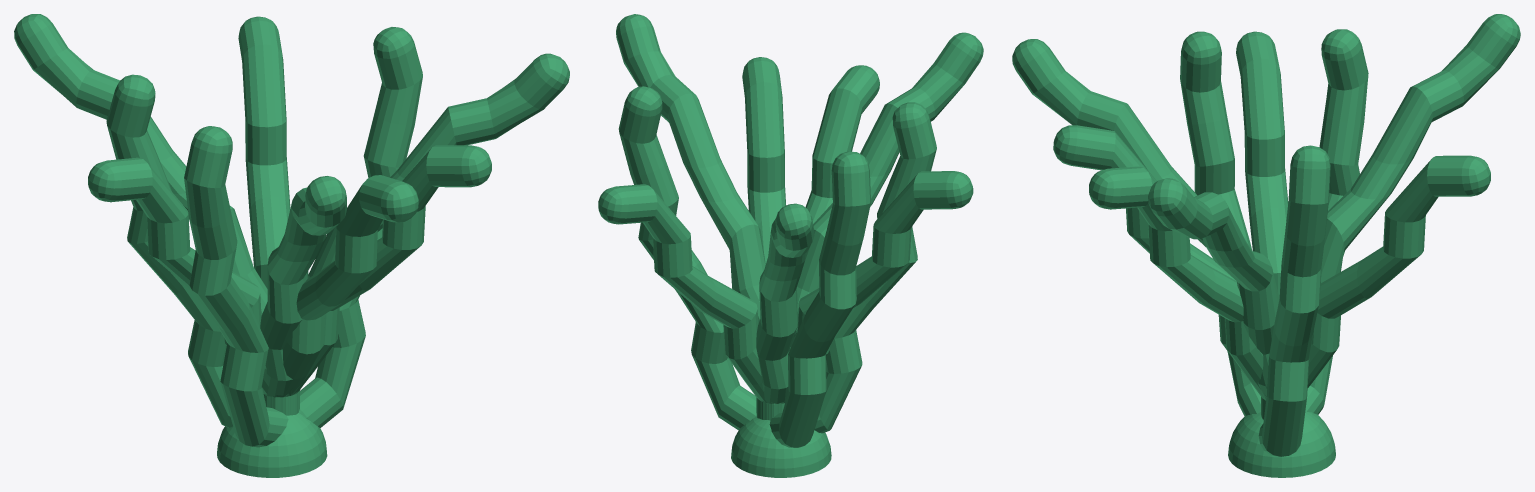
3 views of the same model, side by side, from view 1: azimuth 30°, elevation 25°; view 2: azimuth 150°, elevation 25°; view 3: azimuth 270°, elevation 25° (orthographic). The views are drawn at different scales.
Parts seen in each view (by area): view 1: Cube.004; view 2: Cube.004; view 3: Cube.004.
Part boxes in pixels (x1=…): Cube.004: x1=14, y1=14, x2=569, y2=477; Cube.004: x1=598, y1=14, x2=983, y2=477; Cube.004: x1=1012, y1=14, x2=1520, y2=477.
Bounding box in the file's own units: 1.07 × 0.9181 × 1.12.
